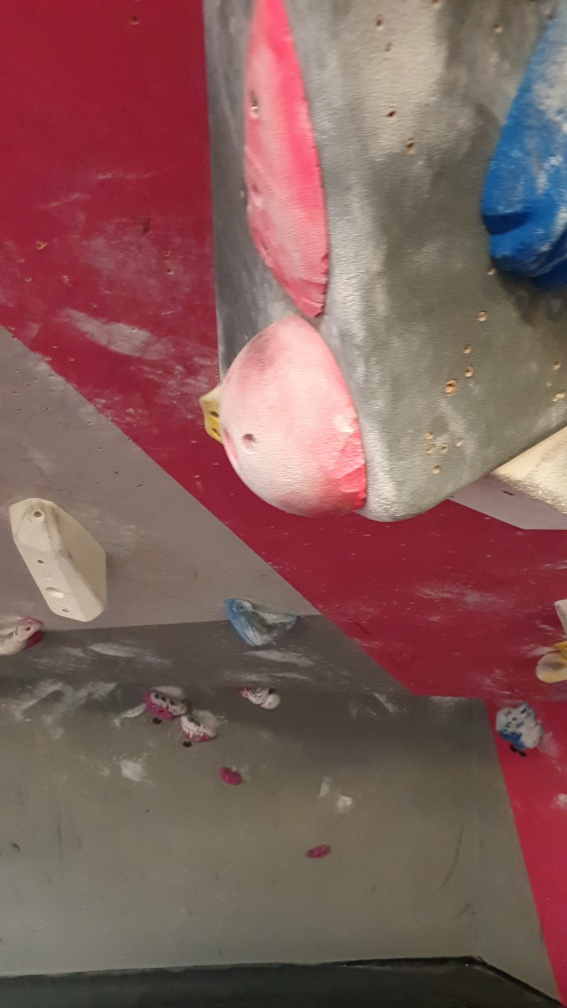Jug: (222, 595, 299, 652)
Pinch: (7, 495, 113, 623)
Sloper: (220, 314, 375, 526)
